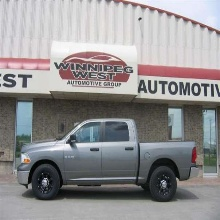no damage: (16, 117, 198, 202)
